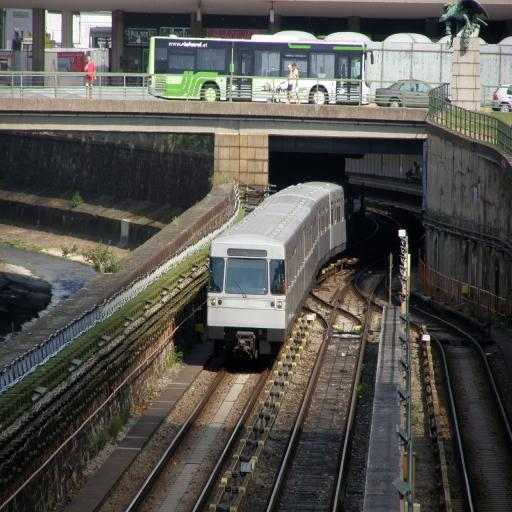Silberpfeil: (204, 180, 363, 350)
